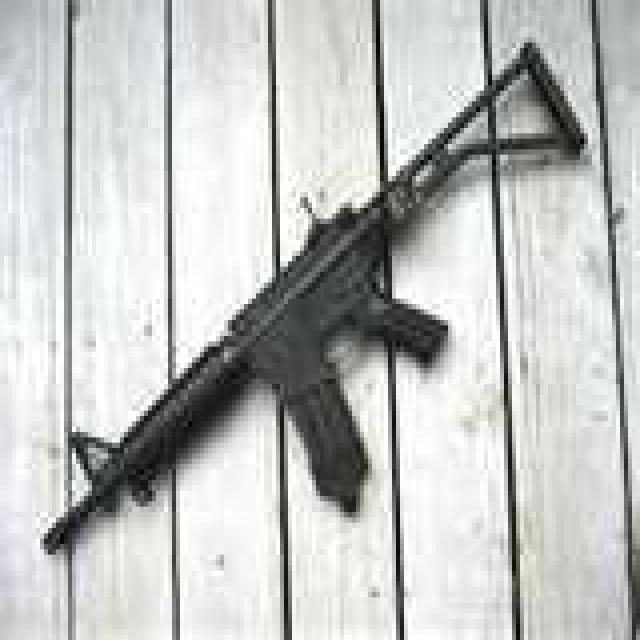Rifle: (39, 35, 596, 572)
